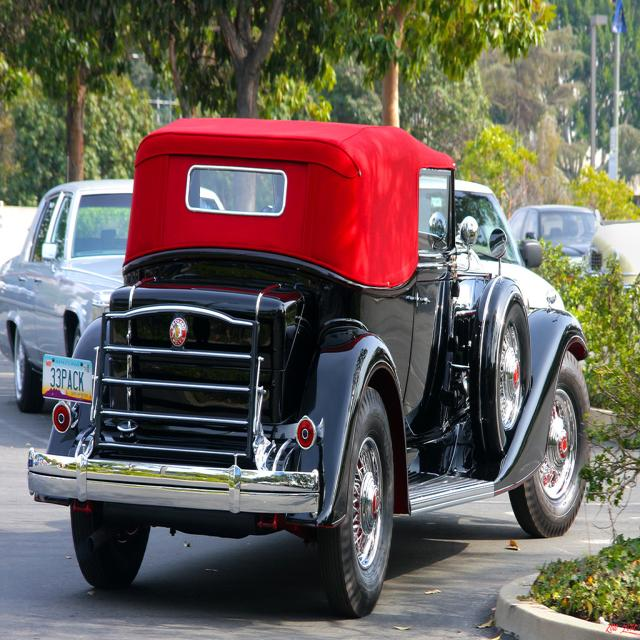car: (20, 121, 591, 619)
